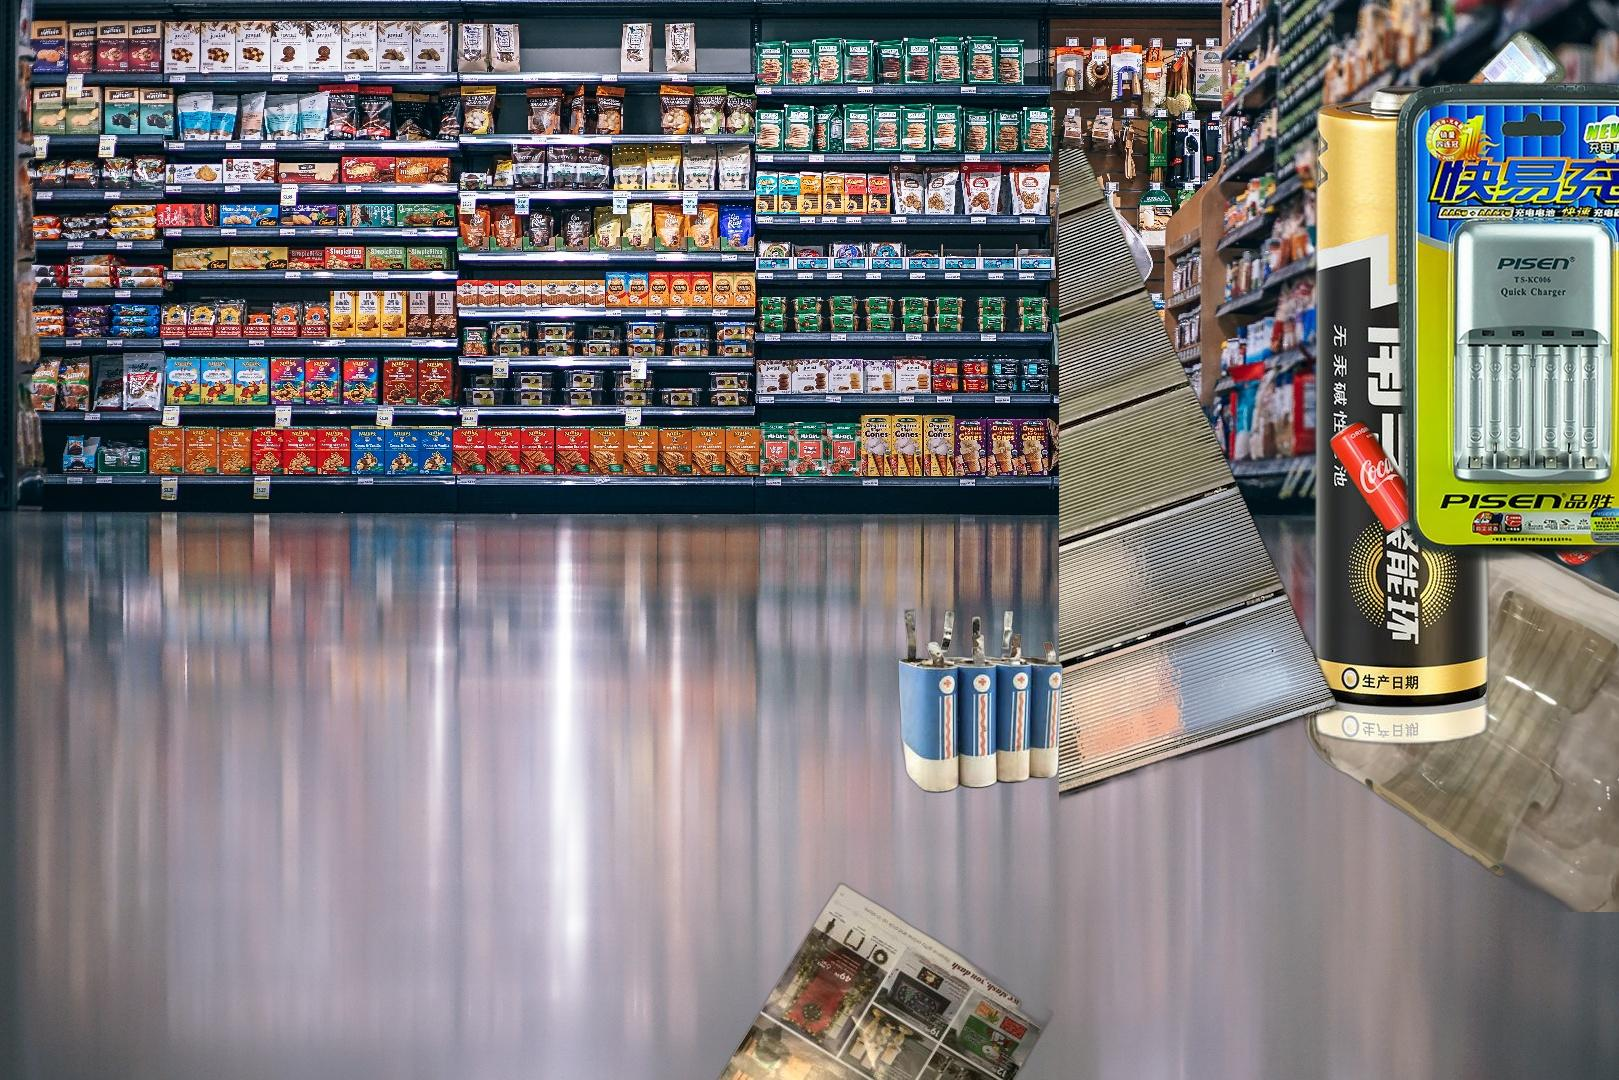battery: (1308, 78, 1619, 752), (1392, 77, 1619, 571), (894, 606, 1066, 796)
glass: (1300, 528, 1619, 912)
metal-cans: (1058, 149, 1427, 832), (1539, 36, 1619, 573)
paper: (686, 880, 1056, 1080)
plastic-bottles: (1368, 23, 1571, 532)
